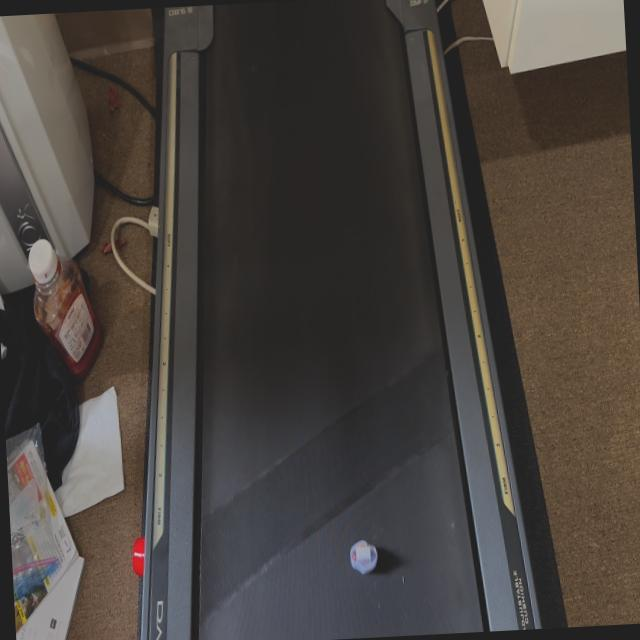Trash: (347, 533, 388, 579)
